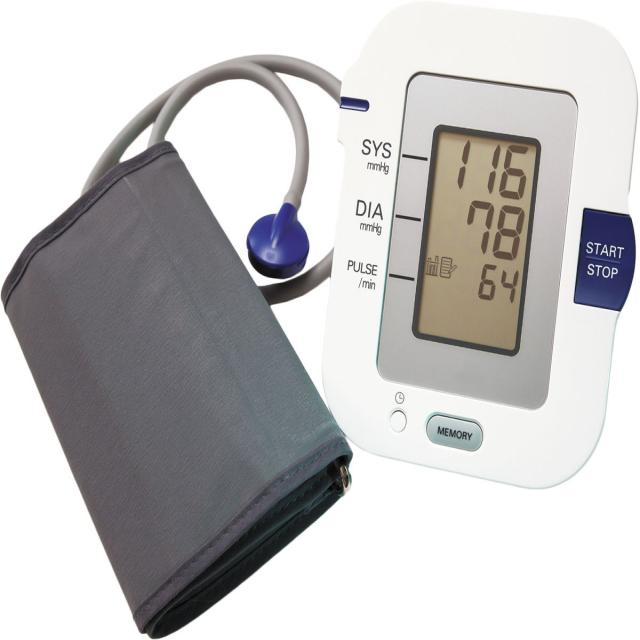dia: (452, 194, 531, 266)
pul: (467, 258, 526, 312)
ssd: (412, 125, 539, 355)
sys: (446, 132, 540, 204)
